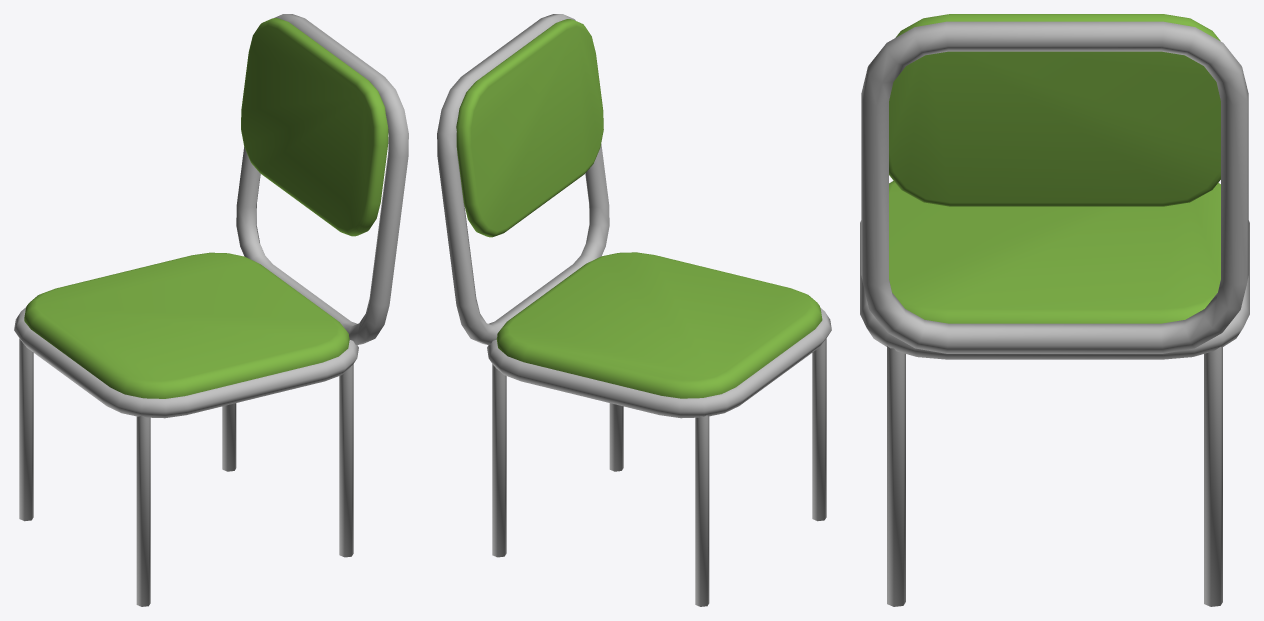
Rendered from Chair04.fbx.
3 views of the same model, side by side, from view 1: azimuth 30°, elevation 25°; view 2: azimuth 150°, elevation 25°; view 3: azimuth 270°, elevation 25° (orthographic). The views are drawn at different scales.
Visible parts, largest first — view 1: Chair04; view 2: Chair04; view 3: Chair04.
Boxes of the visible parts, x1=… form: Chair04: x1=14, y1=14, x2=408, y2=606; Chair04: x1=437, y1=14, x2=831, y2=606; Chair04: x1=860, y1=14, x2=1249, y2=606.
Bounding box in the file's own units: 0.4512 × 0.3936 × 0.6826.
